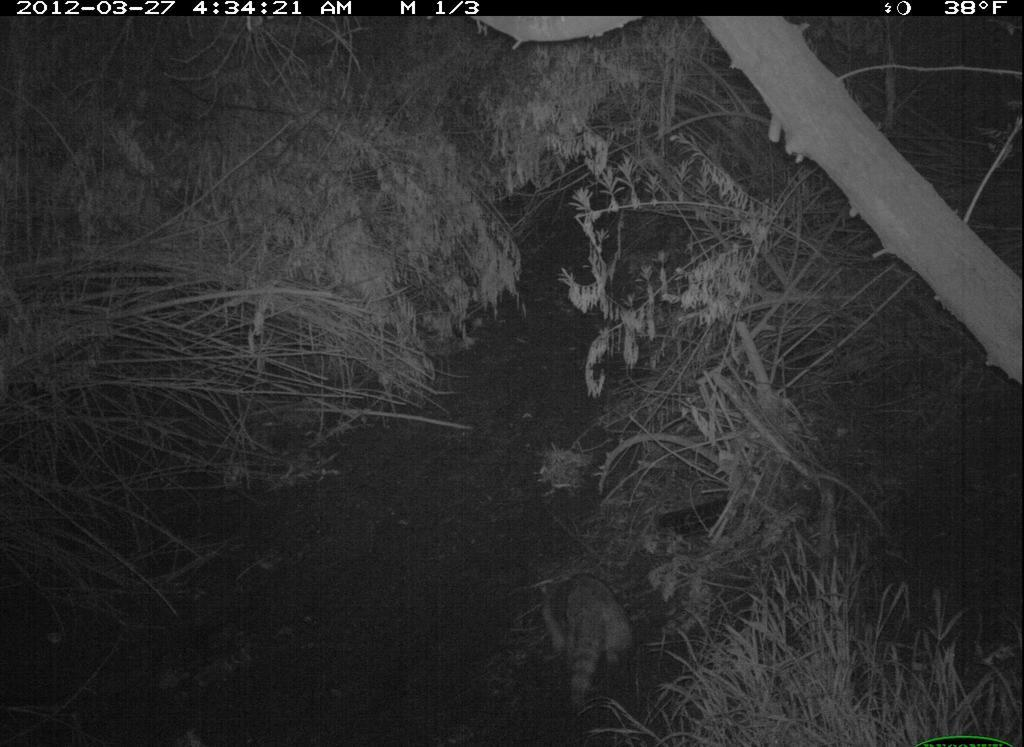raccoon: (532, 559, 653, 725)
